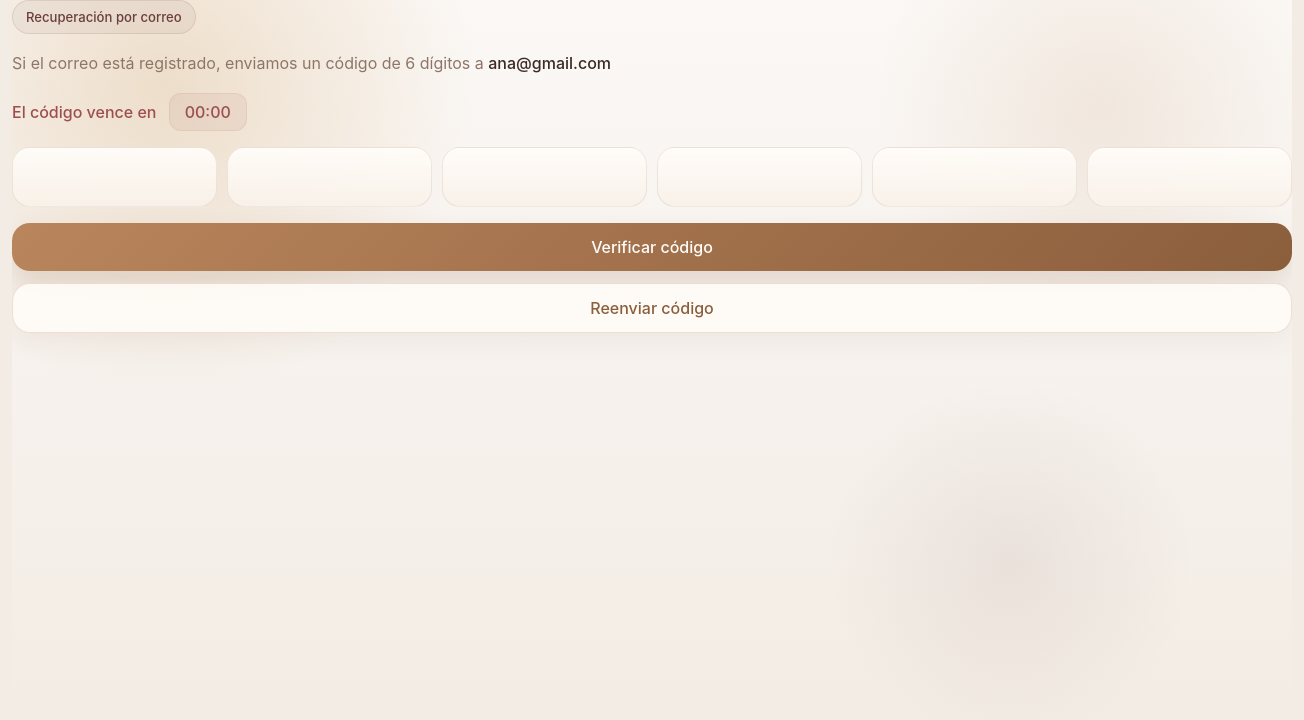
Test: PasswordResetForm › restarts the countdown after a resend
This screenshot has width=1304, height=720.
Step 1. Click the button "Reenviar código" → (652, 308), box [12,283,1292,333]
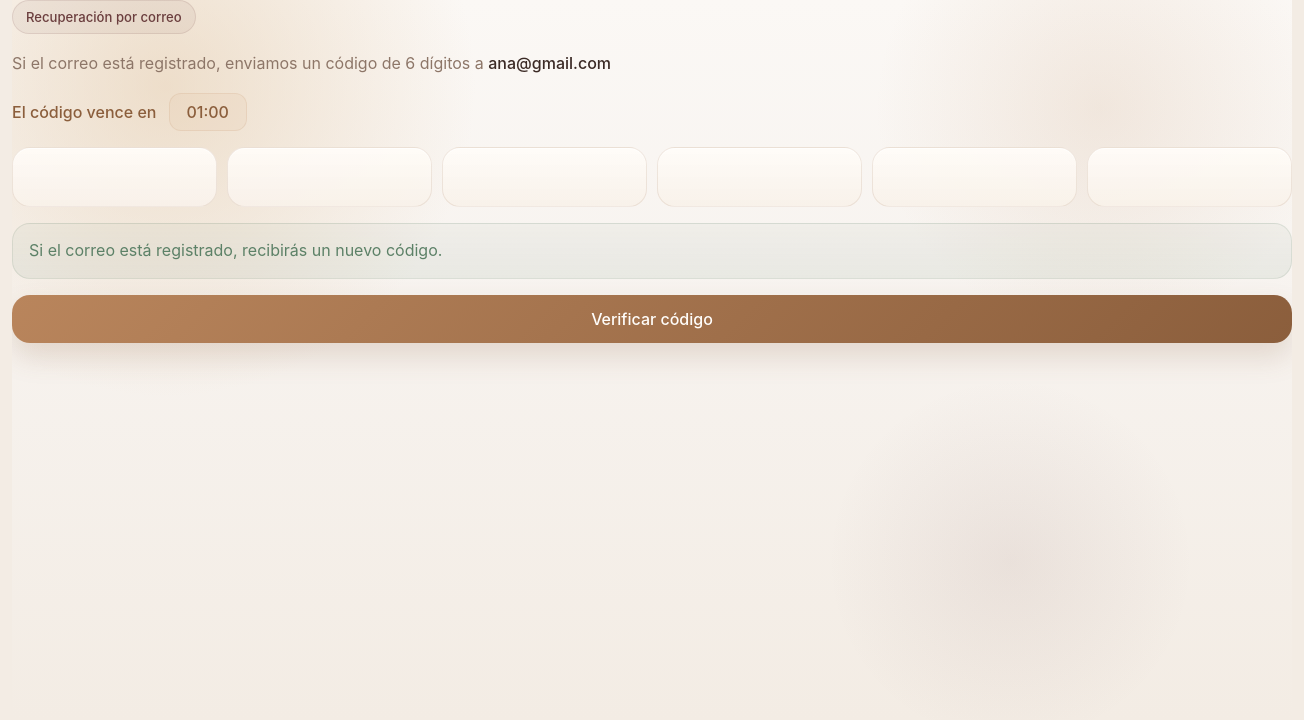
Check: the text "Si el correo está registrado, recibirás un nuevo código." is shown, box [12,223,1292,279]
Check: the text "01:00" is shown, box [169,93,247,131]
